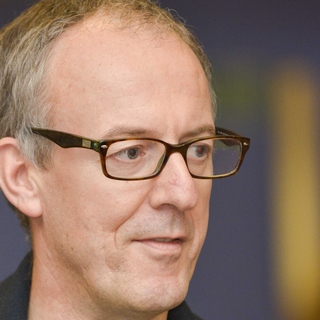eye: (110, 143, 152, 165), (184, 139, 213, 163)
